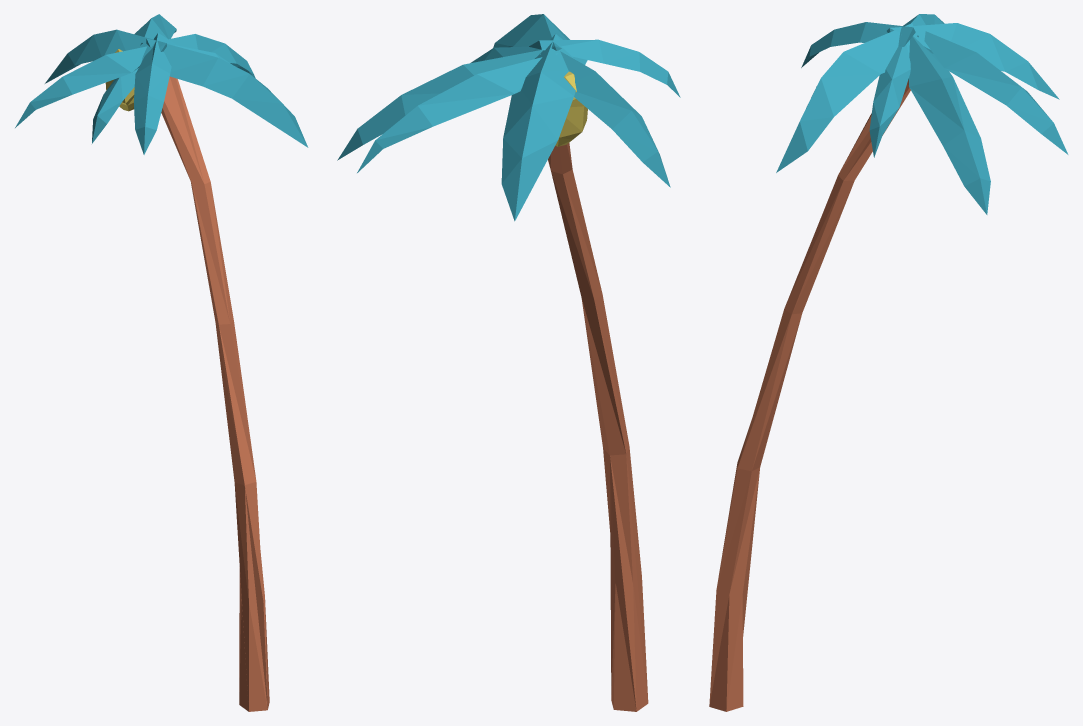
The model's file is Tree_12_summer_blue_mat.fbx.
3 renders of one model, left to right at view 1: azimuth 30°, elevation 25°; view 2: azimuth 150°, elevation 25°; view 3: azimuth 270°, elevation 25°, orthographic. The views are drawn at different scales.
Visible parts, largest first — view 1: Tree_12_summer_blue_mat; view 2: Tree_12_summer_blue_mat; view 3: Tree_12_summer_blue_mat.
Part boxes in pixels (left/top/right/bottom): Tree_12_summer_blue_mat: left=15, top=14, right=308, bottom=711; Tree_12_summer_blue_mat: left=337, top=14, right=680, bottom=711; Tree_12_summer_blue_mat: left=709, top=14, right=1068, bottom=711.
Size of the model in its own units: 80.91 by 183 by 88.81.
